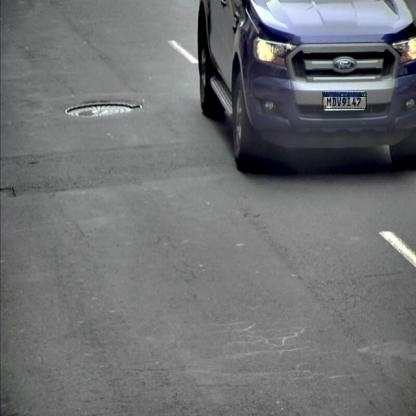PlacaM: (322, 92, 366, 109)
